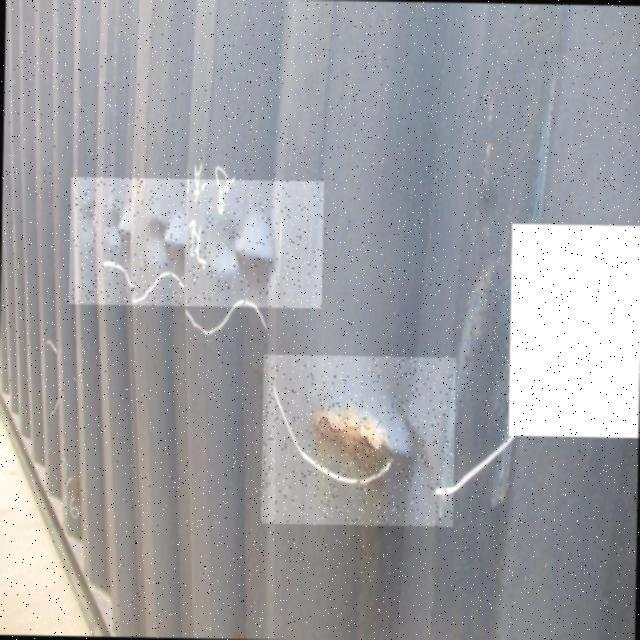Dent: (261, 354, 456, 526), (69, 177, 324, 308)
